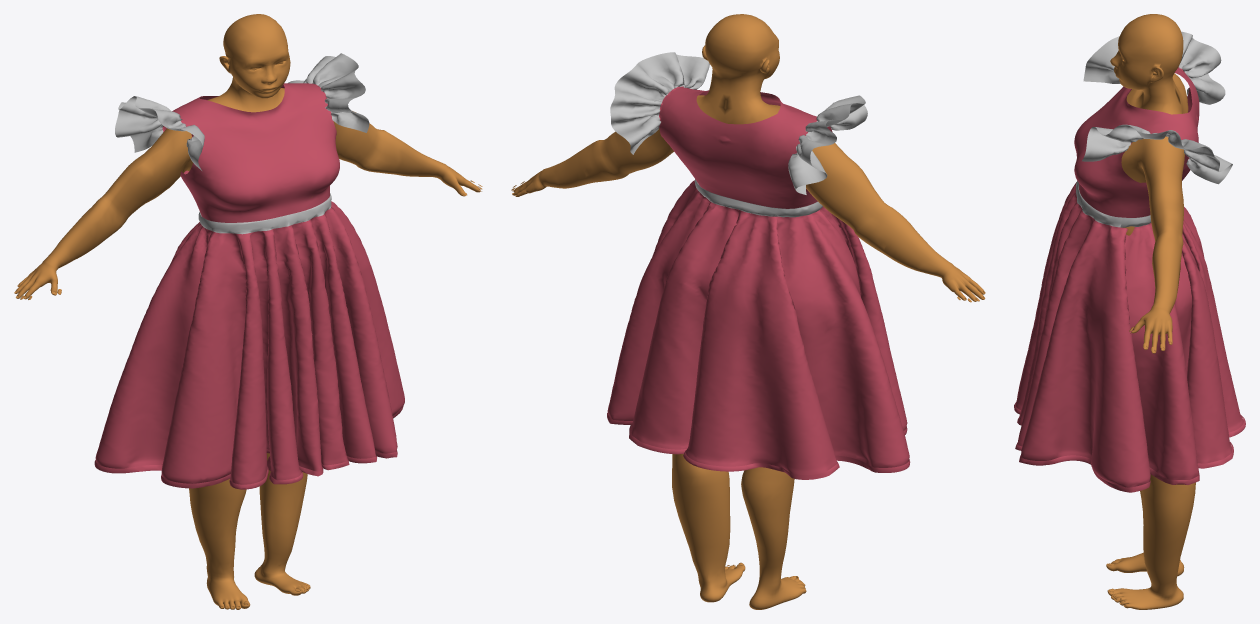
File: dress4.glb
The picture shows the model from 3 angles, left to right: view 1: azimuth 30°, elevation 25°; view 2: azimuth 150°, elevation 25°; view 3: azimuth 270°, elevation 25°; orthographic projection.
Visible parts, largest first — view 1: PinkDrees#14 (OBJ), Body; view 2: PinkDrees#14 (OBJ), Body; view 3: PinkDrees#14 (OBJ), Body.
Part boxes in pixels (bbox=[...]): PinkDrees#14 (OBJ): bbox=[94, 53, 404, 489]; Body: bbox=[14, 14, 481, 609]; PinkDrees#14 (OBJ): bbox=[607, 52, 910, 479]; Body: bbox=[512, 14, 985, 609]; PinkDrees#14 (OBJ): bbox=[1014, 31, 1245, 492]; Body: bbox=[1106, 14, 1195, 609].
Size of the model in its own units: 1.59 by 1.88 by 0.6849.
